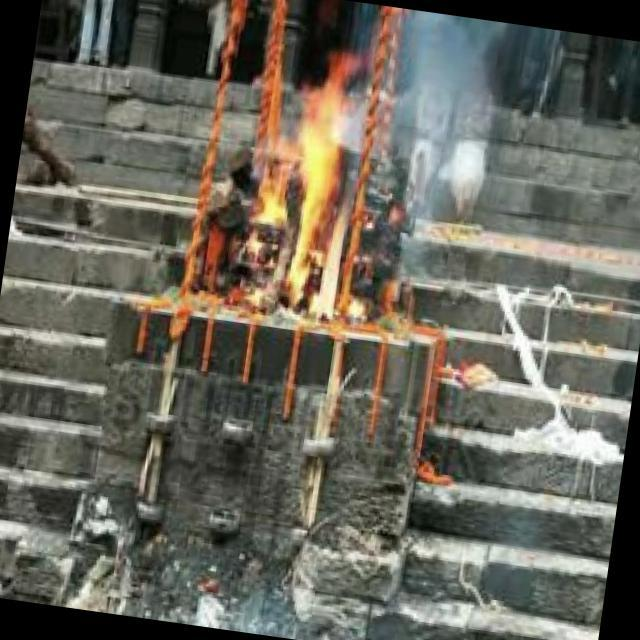Fire: (237, 74, 373, 325)
